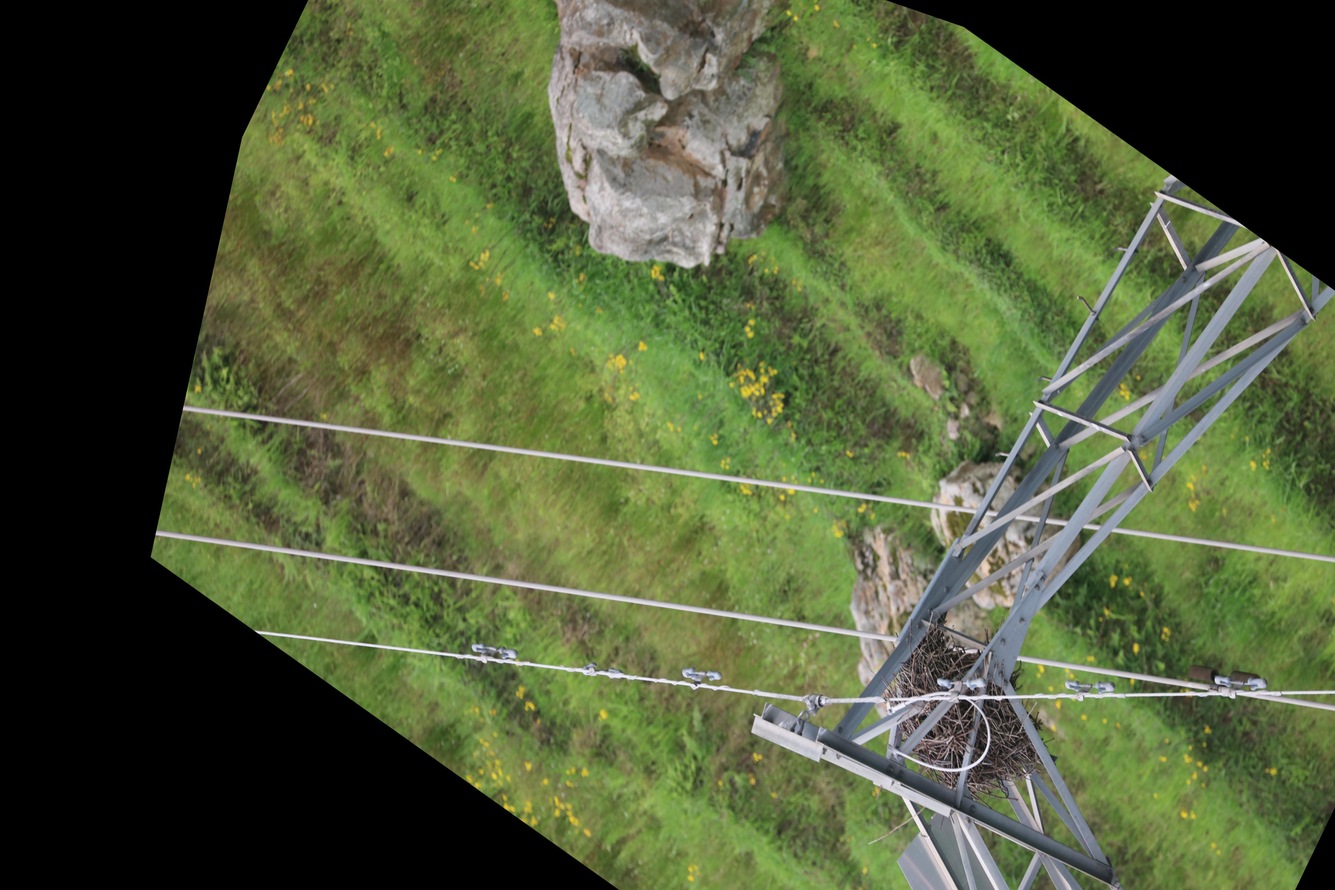damper: (1204, 644, 1277, 722), (927, 646, 994, 721), (1055, 650, 1123, 723), (462, 618, 526, 685), (672, 645, 729, 709)
damper_defect: (1176, 627, 1270, 724)
